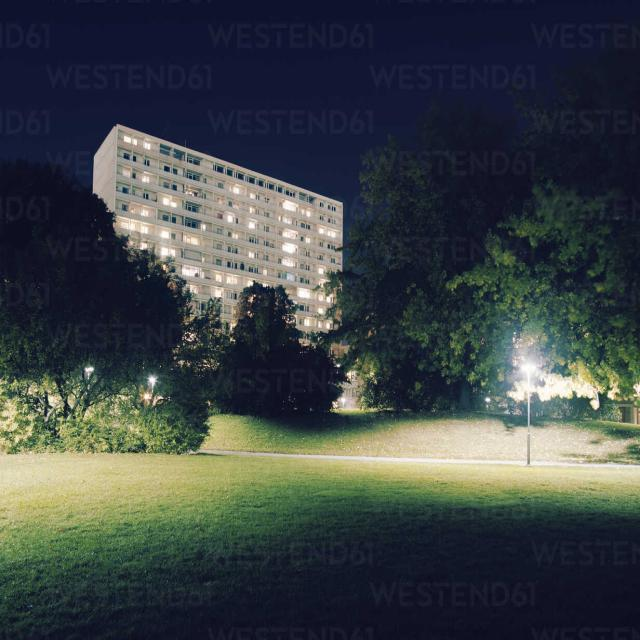lighting: (295, 285, 346, 304), (123, 220, 172, 238), (303, 313, 341, 332), (281, 228, 297, 272), (120, 134, 154, 152), (230, 184, 258, 205), (318, 223, 347, 240), (161, 195, 183, 211), (216, 273, 241, 286), (158, 247, 182, 260), (294, 203, 312, 218), (316, 264, 330, 283), (138, 172, 154, 188), (208, 284, 225, 299), (183, 266, 204, 277), (301, 231, 315, 246), (283, 202, 300, 212), (226, 209, 237, 223), (316, 303, 327, 314), (246, 220, 258, 230), (244, 204, 254, 215), (341, 394, 348, 408)
streetlight: (518, 353, 551, 408), (138, 366, 162, 409), (72, 353, 98, 385)
